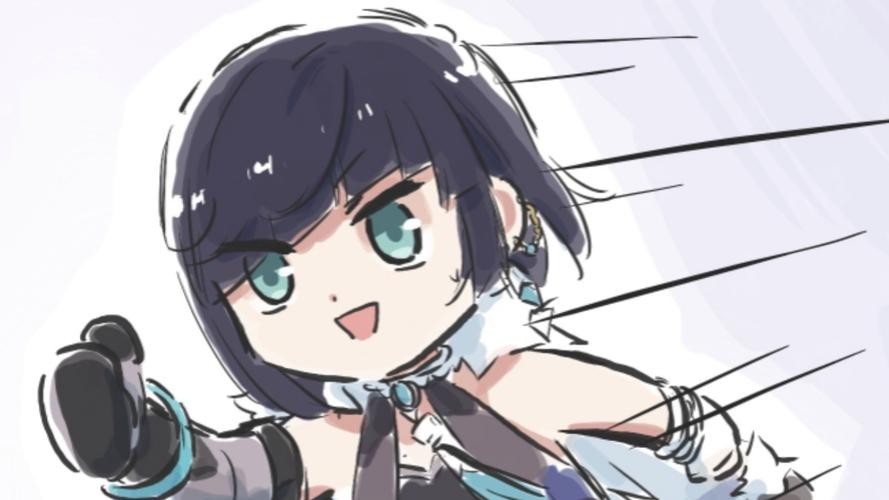夜兰: (31, 8, 788, 500)
